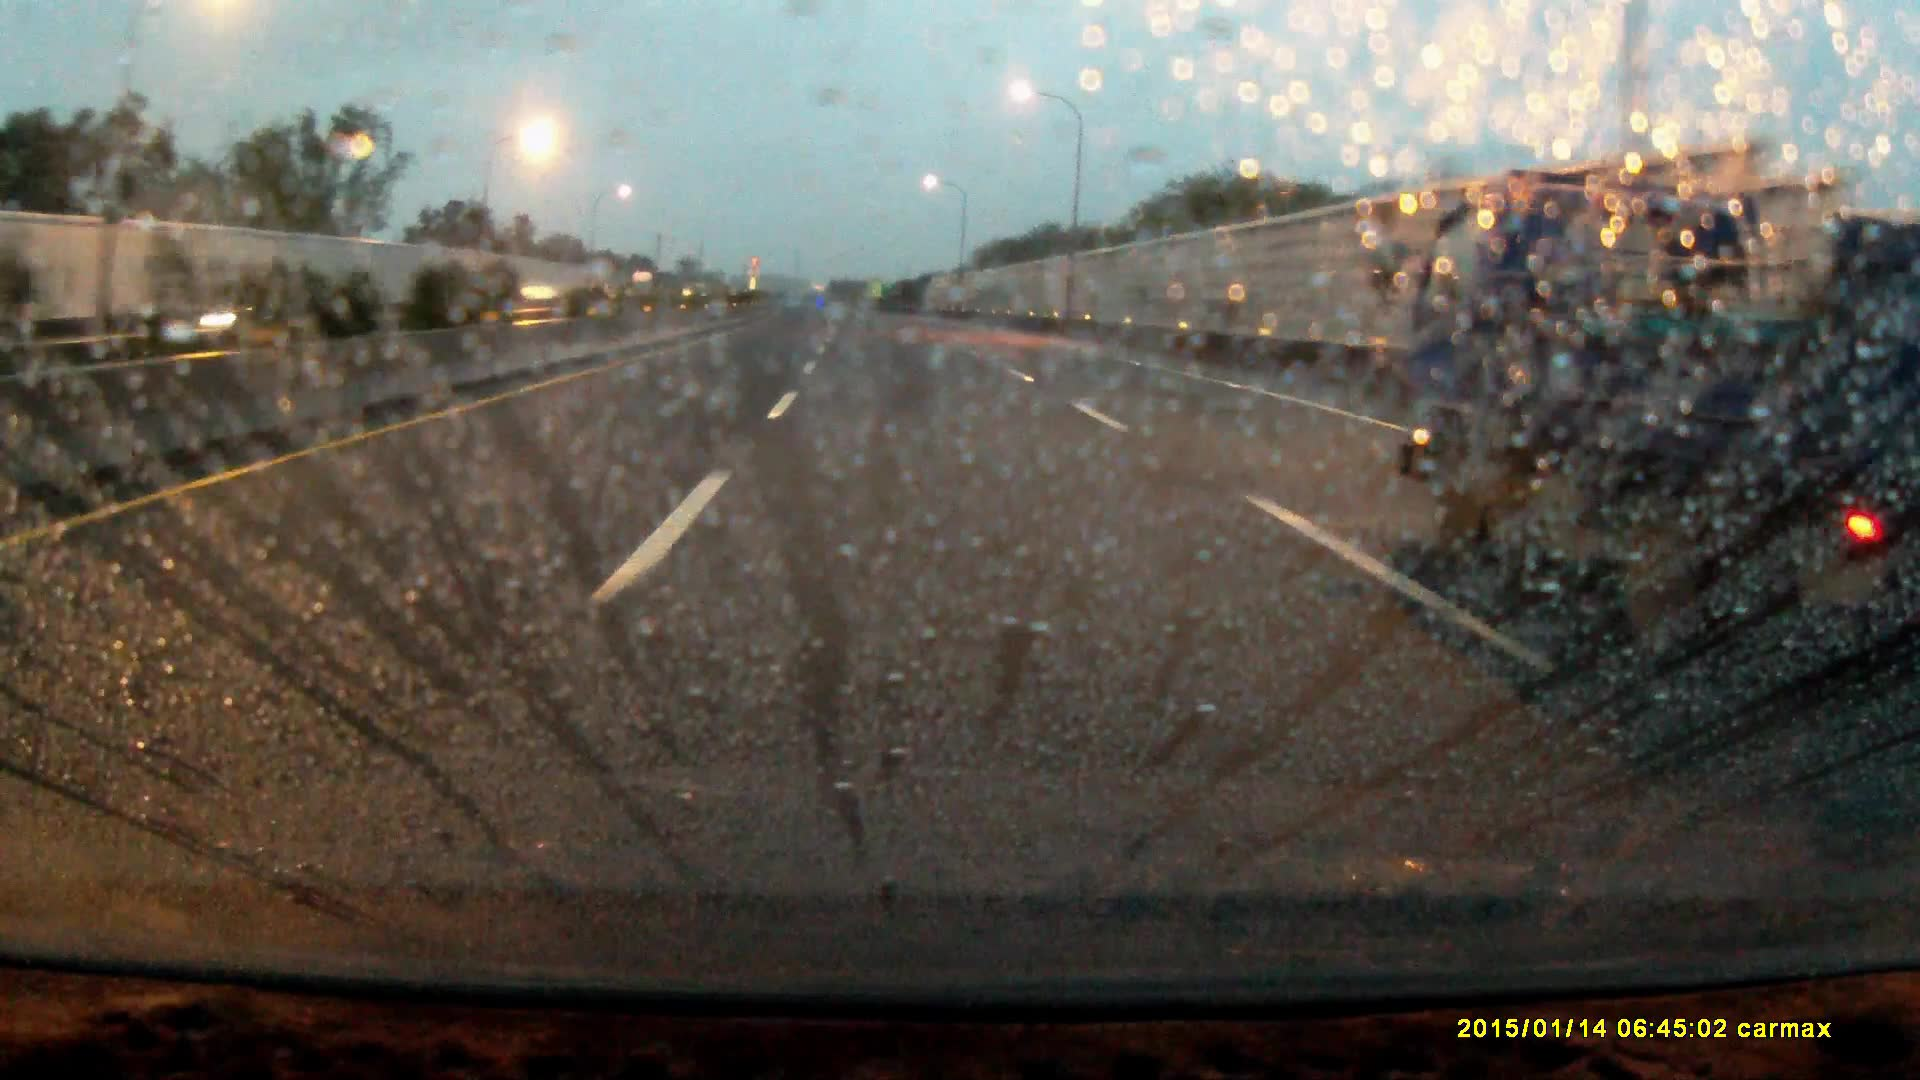vehicle: (1389, 171, 1920, 618), (193, 269, 331, 336), (632, 268, 661, 301)
